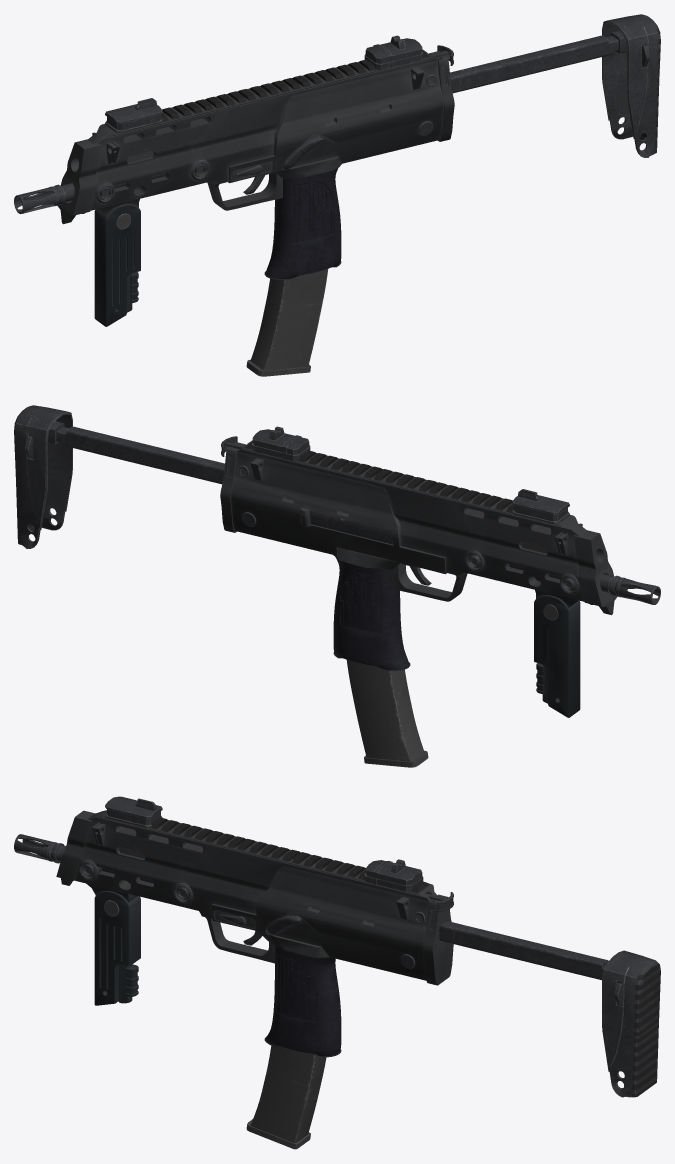
3 views of the same model, one above another, from view 1: azimuth 30°, elevation 25°; view 2: azimuth 150°, elevation 25°; view 3: azimuth 330°, elevation 25° (orthographic).
Visible parts, largest first — view 1: Cube.006_Cube.074, Cube.001_Cube.071, Cube.007_Cube.066, Cube.035_Cube.058, mag_piece, Cube.009_Cube.065, Cube.011_Cube.076, Cube.020_Cube.063, Cylinder_Cylinder.035, Cylinder.008_Cylinder.036, Cylinder.005_Cylinder.030; view 2: Cube.006_Cube.074, Cube.001_Cube.071, Cube.007_Cube.066, Cube.035_Cube.058, mag_piece, Cube.009_Cube.065, Cube.011_Cube.076, Cube.020_Cube.063, Cylinder_Cylinder.035, Cube.034_Cube.059, Cylinder.008_Cylinder.036; view 3: Cube.006_Cube.074, Cube.001_Cube.071, Cube.007_Cube.066, Cube.035_Cube.058, mag_piece, Cube.009_Cube.065, Cube.011_Cube.076, Cube.020_Cube.063, Cylinder_Cylinder.035, Cylinder.008_Cylinder.036, Cylinder.005_Cylinder.030.
Boxes of the visible parts, x1,y1,x2,y2 form: Cube.006_Cube.074: (57, 51, 454, 224); Cube.001_Cube.071: (88, 49, 437, 216); Cube.007_Cube.066: (450, 14, 660, 157); Cube.035_Cube.058: (264, 168, 341, 279); mag_piece: (246, 269, 328, 376); Cube.009_Cube.065: (94, 204, 140, 326); Cube.011_Cube.076: (105, 35, 423, 133); Cube.020_Cube.063: (161, 50, 430, 122); Cylinder_Cylinder.035: (14, 173, 165, 213); Cylinder.008_Cylinder.036: (95, 74, 436, 203); Cylinder.005_Cylinder.030: (235, 136, 322, 176); Cube.006_Cube.074: (220, 442, 617, 615); Cube.001_Cube.071: (237, 440, 586, 607); Cube.007_Cube.066: (14, 405, 224, 548); Cube.035_Cube.058: (333, 557, 410, 670); mag_piece: (346, 660, 428, 767); Cube.009_Cube.065: (534, 595, 580, 717); Cube.011_Cube.076: (251, 426, 569, 524); Cube.020_Cube.063: (244, 441, 513, 513); Cylinder_Cylinder.035: (509, 564, 660, 604); Cube.034_Cube.059: (310, 511, 393, 544); Cylinder.008_Cylinder.036: (238, 465, 579, 594); Cube.006_Cube.074: (56, 810, 453, 985); Cube.001_Cube.071: (74, 810, 437, 963); Cube.007_Cube.066: (439, 921, 660, 1097); Cube.035_Cube.058: (264, 945, 341, 1057); mag_piece: (246, 1045, 326, 1149); Cube.009_Cube.065: (94, 891, 140, 1005); Cube.011_Cube.076: (105, 796, 423, 891); Cube.020_Cube.063: (149, 817, 430, 893); Cylinder_Cylinder.035: (14, 834, 153, 883); Cylinder.008_Cylinder.036: (79, 859, 425, 968); Cylinder.005_Cylinder.030: (219, 914, 301, 935).
Bounding box in the file's own units: 4.95 × 2.29 × 0.4385.
11 materials, 11 textured.
